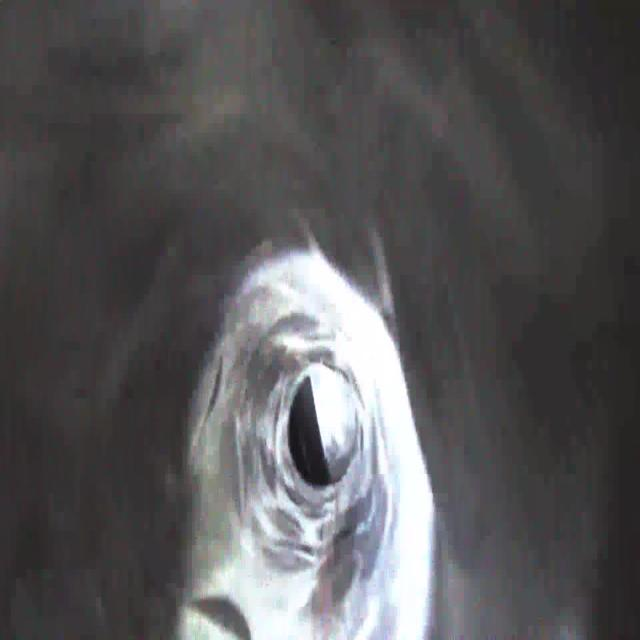crack: (181, 349, 239, 449), (251, 506, 317, 579), (260, 300, 342, 358)
